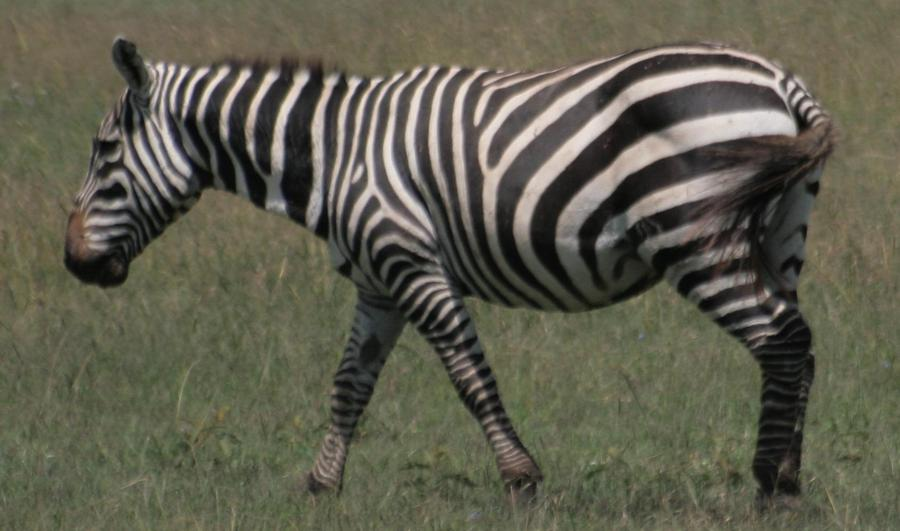zebra_plains: (296, 25, 783, 337)
